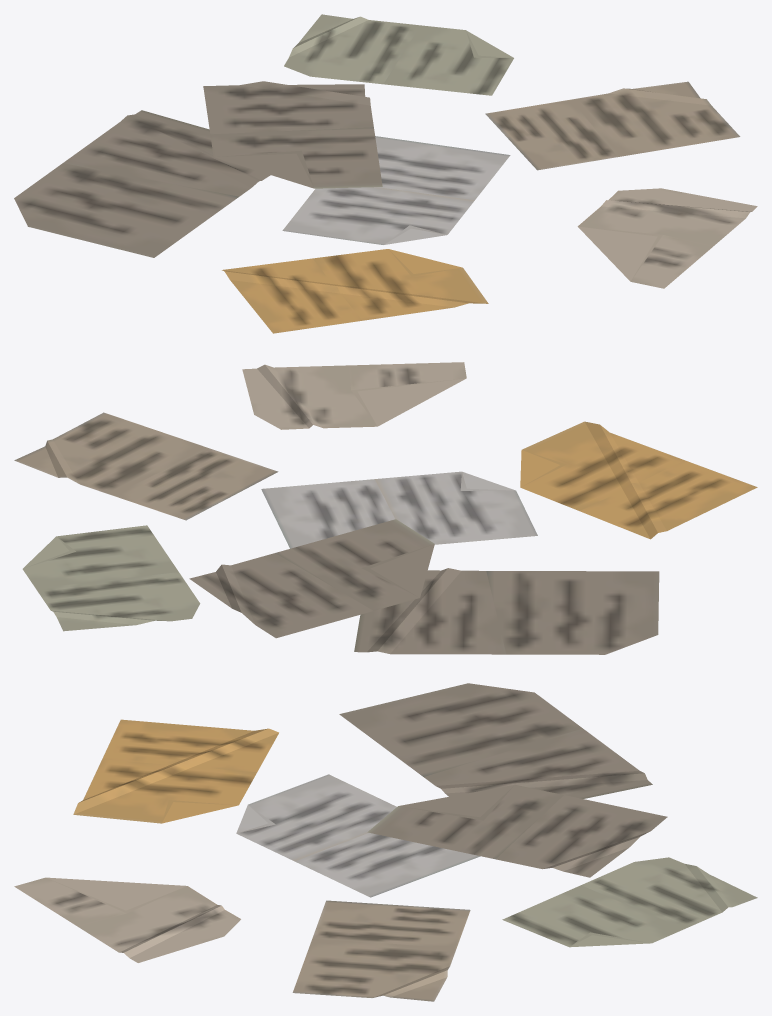
The model's file is SM_Gen_Prop_Papers_04.obj.
3 views of the same model, one above another, from view 1: azimuth 30°, elevation 25°; view 2: azimuth 150°, elevation 25°; view 3: azimuth 270°, elevation 25° (orthographic). The views are drawn at different scales.
Parts seen in each view (by area): view 1: SM_Gen_Prop_Papers_04_0; view 2: SM_Gen_Prop_Papers_04_0; view 3: SM_Gen_Prop_Papers_04_0.
Part boxes in pixels (x1=…): SM_Gen_Prop_Papers_04_0: x1=14, y1=14, x2=757, y2=333; SM_Gen_Prop_Papers_04_0: x1=14, y1=362, x2=757, y2=654; SM_Gen_Prop_Papers_04_0: x1=14, y1=683, x2=757, y2=1001.
Size of the model in its own units: 0.9849 by 0.00774 by 0.9709.
1 material, 1 textured.
